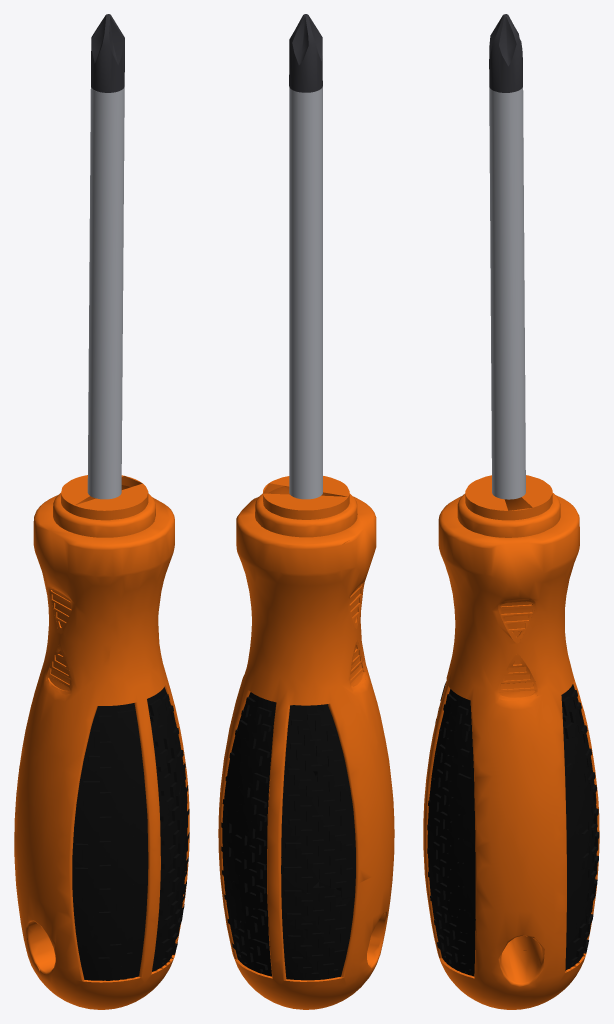
File: phillips_screwdriver_100mm.dae
The picture shows the model from 3 angles, left to right: view 1: azimuth 30°, elevation 25°; view 2: azimuth 150°, elevation 25°; view 3: azimuth 270°, elevation 25°; orthographic projection.
Parts seen in each view (by area): view 1: node_g2_orange, node_g3_black, node_g0_chrome, node_g1_dark_steel; view 2: node_g2_orange, node_g3_black, node_g0_chrome, node_g1_dark_steel; view 3: node_g2_orange, node_g3_black, node_g0_chrome, node_g1_dark_steel.
Part boxes in pixels (x1=…): node_g2_orange: x1=14, y1=475, x2=189, y2=1009; node_g3_black: x1=19, y1=687, x2=189, y2=980; node_g0_chrome: x1=87, y1=87, x2=124, y2=499; node_g1_dark_steel: x1=91, y1=14, x2=124, y2=92; node_g2_orange: x1=218, y1=476, x2=394, y2=1009; node_g3_black: x1=221, y1=692, x2=355, y2=980; node_g0_chrome: x1=289, y1=86, x2=322, y2=499; node_g1_dark_steel: x1=289, y1=14, x2=322, y2=92; node_g2_orange: x1=423, y1=475, x2=599, y2=1009; node_g3_black: x1=427, y1=682, x2=599, y2=976; node_g0_chrome: x1=489, y1=87, x2=525, y2=499; node_g1_dark_steel: x1=489, y1=14, x2=522, y2=92.
Bounding box in the file's own units: 0.0338 × 0.0337 × 0.209.
